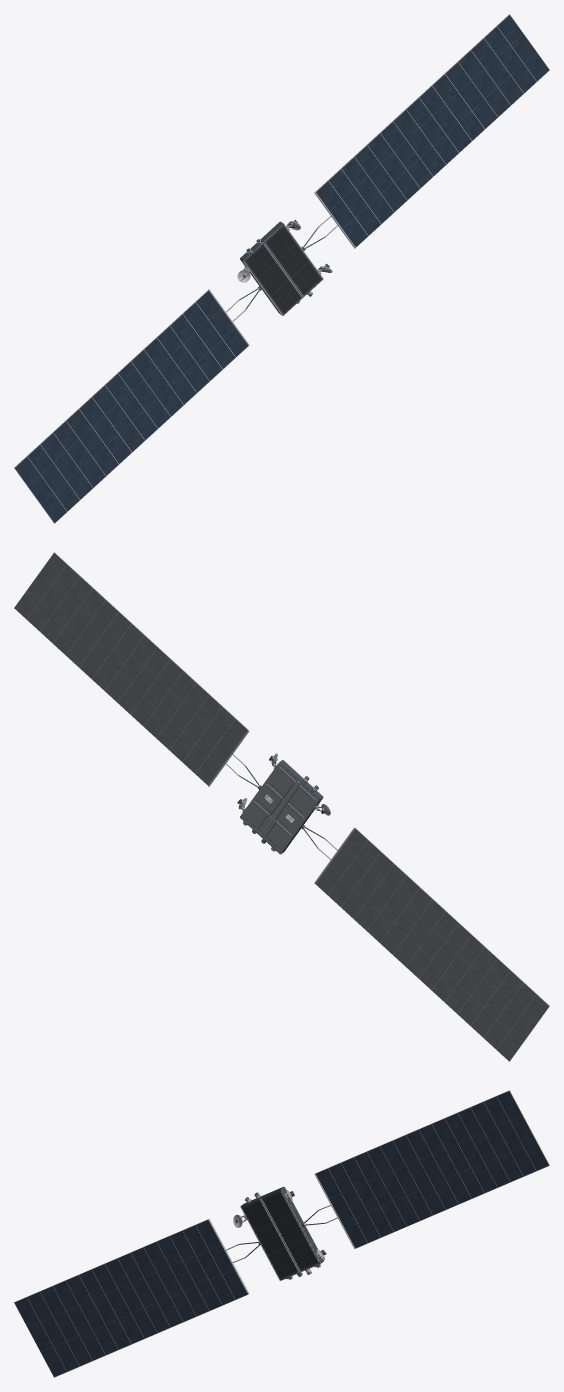
Rendered from starlink_v2.glb.
The picture shows the model from 3 angles, top to bottom: view 1: azimuth 30°, elevation 25°; view 2: azimuth 150°, elevation 25°; view 3: azimuth 330°, elevation 25°; orthographic projection.
Parts seen in each view (by area): view 1: Deployed solar array with forked yoke - Photovoltaic blanket (×2), Antenna deck bank - Gridded antenna deck (×2); view 2: Deployed solar array with forked yoke - Reverse solar blanke (×2), Reverse equipment panels and thermal hardware - Reverse equi, Flat bus and central spine - Reverse equipment deck; view 3: Deployed solar array with forked yoke - Photovoltaic blanket (×2), Antenna deck bank - Gridded antenna deck (×2), Deployed solar array with forked yoke - Satin aluminium fram (×2), Flat bus and central spine - Graphite equipment housing, Flat bus and central spine - Graphite composite struts.
Boxes of the visible parts, left/top/right/bottom form: Deployed solar array with forked yoke - Photovoltaic blanket (×2): left=15, top=15, right=549, bottom=523; Antenna deck bank - Gridded antenna deck (×2): left=246, top=227, right=321, bottom=313; Deployed solar array with forked yoke - Reverse solar blanke (×2): left=14, top=553, right=548, bottom=1061; Reverse equipment panels and thermal hardware - Reverse equi: left=243, top=766, right=316, bottom=850; Flat bus and central spine - Reverse equipment deck: left=240, top=763, right=318, bottom=853; Deployed solar array with forked yoke - Photovoltaic blanket (×2): left=14, top=1091, right=548, bottom=1377; Antenna deck bank - Gridded antenna deck (×2): left=242, top=1191, right=317, bottom=1278; Deployed solar array with forked yoke - Satin aluminium fram (×2): left=14, top=1090, right=549, bottom=1377; Flat bus and central spine - Graphite equipment housing: left=240, top=1186, right=323, bottom=1280; Flat bus and central spine - Graphite composite struts: left=260, top=1189, right=322, bottom=1271.
Size of the model in its own units: 29.66 by 21.07 by 0.8318.
11 materials, 3 textured.
